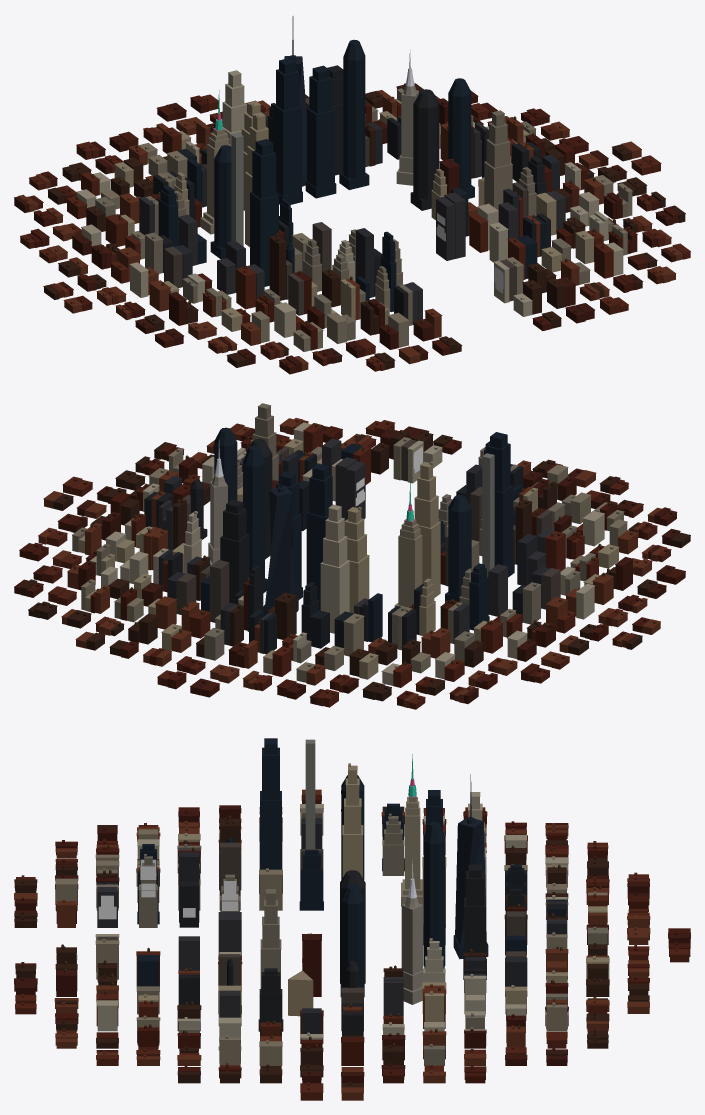
The model's file is nyc-city.glb.
3 renders of one model, top to bottom at view 1: azimuth 30°, elevation 25°; view 2: azimuth 150°, elevation 25°; view 3: azimuth 270°, elevation 25°, orthographic. The views are drawn at different scales.
Visible parts, largest first — view 1: city; view 2: city; view 3: city.
Part boxes in pixels (box(x1,y1,x2,y2)): city: box(14, 16, 690, 374); city: box(14, 403, 690, 709); city: box(14, 738, 690, 1100).
Bounding box in the file's own units: 98.48 × 26.88 × 92.79.
